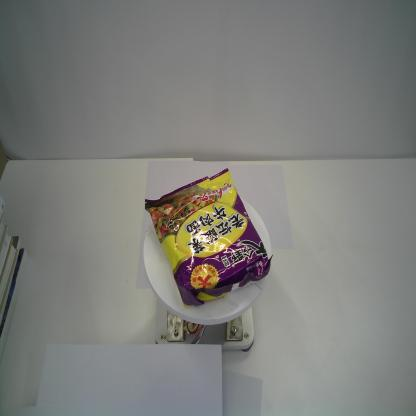Instant Noodles: (144, 166, 274, 308)
